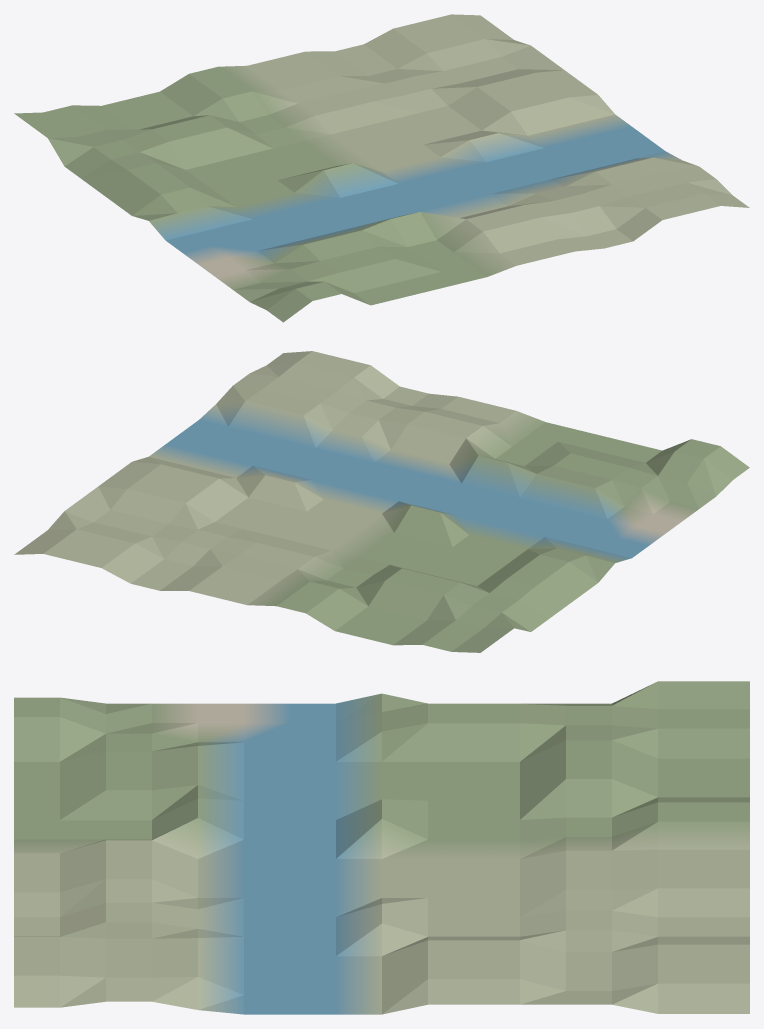
3 views of the same model, one above another, from view 1: azimuth 30°, elevation 25°; view 2: azimuth 150°, elevation 25°; view 3: azimuth 270°, elevation 25° (orthographic). The views are drawn at different scales.
Bounding box in the file's own units: 32 × 1.22 × 32.
